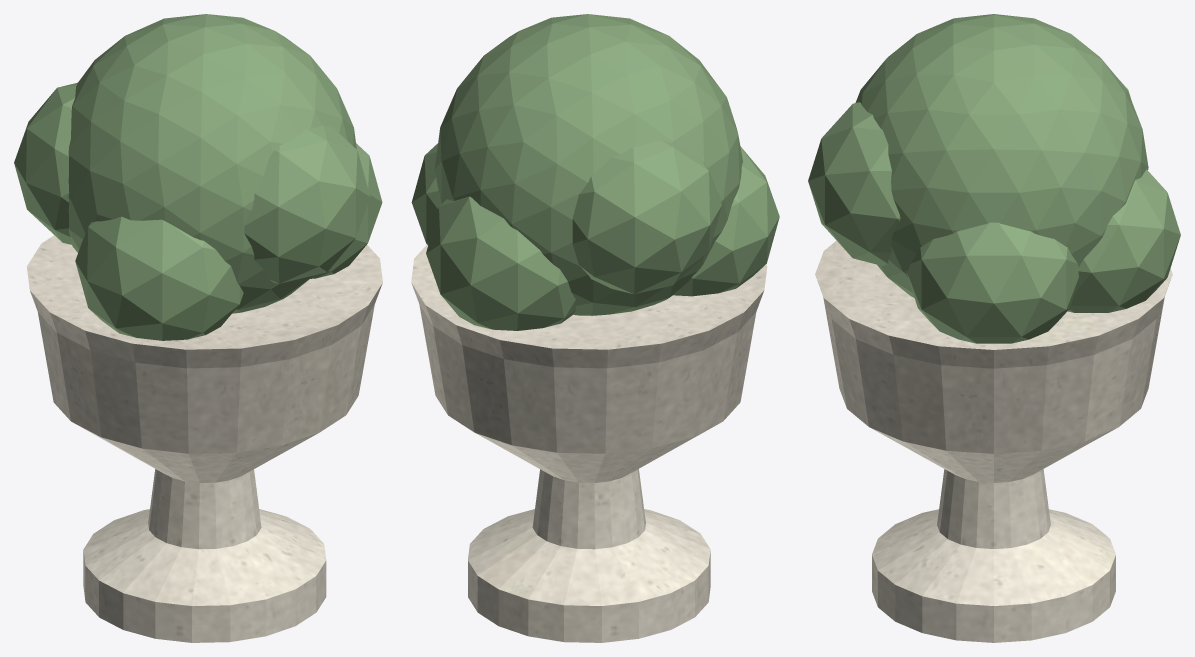
File: urn.glb
3 renders of one model, left to right at view 1: azimuth 30°, elevation 25°; view 2: azimuth 150°, elevation 25°; view 3: azimuth 270°, elevation 25°, orthographic.
Parts seen in each view (by area): view 1: urn_hedge, urn_carve; view 2: urn_hedge, urn_carve; view 3: urn_hedge, urn_carve.
Boxes of the visible parts, box(x1,y1,x2,y2) form: urn_hedge: box(14, 14, 382, 340); urn_carve: box(26, 235, 382, 642); urn_hedge: box(411, 14, 779, 330); urn_carve: box(411, 245, 767, 642); urn_hedge: box(808, 14, 1180, 343); urn_carve: box(815, 240, 1172, 642).
Size of the model in its own units: 0.91 by 1.53 by 0.917.
Materials: 3 (1 with a texture image).
